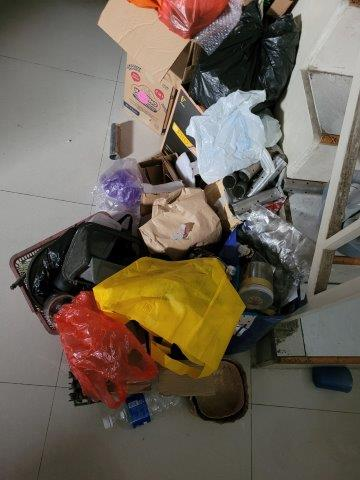botolplastik: (97, 381, 187, 436)
kardus: (100, 5, 189, 136)
plastik: (61, 301, 149, 400), (212, 4, 303, 96), (188, 91, 271, 181), (95, 163, 145, 210), (156, 2, 220, 35)
